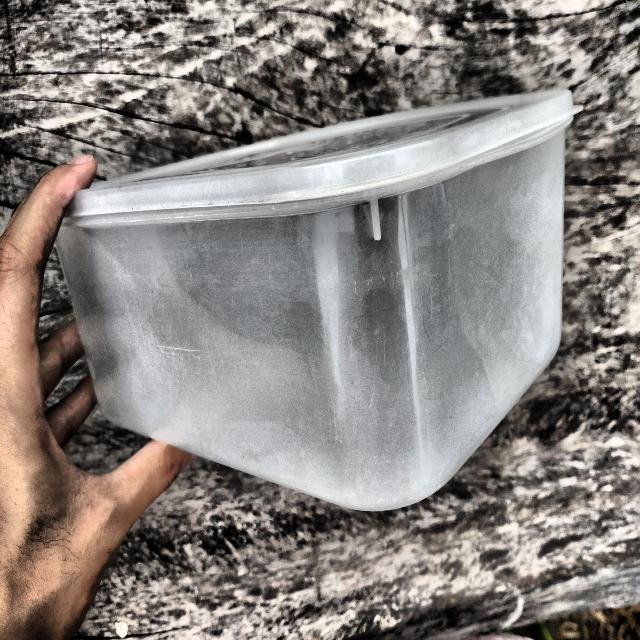plastic container: (66, 108, 584, 503)
